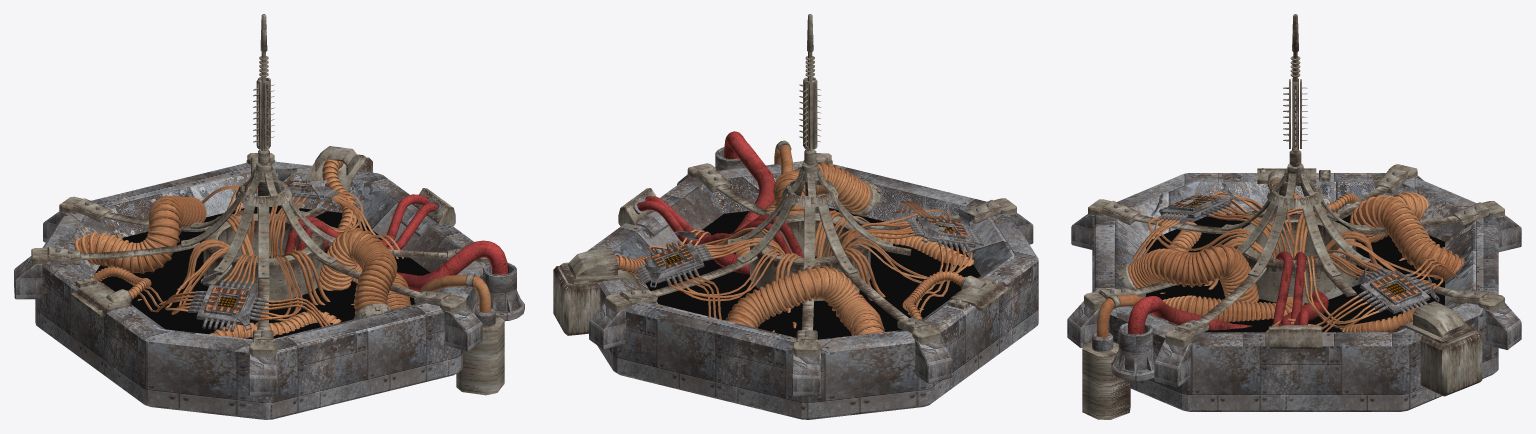
File: static.fbx
The picture shows the model from 3 angles, left to right: view 1: azimuth 30°, elevation 25°; view 2: azimuth 150°, elevation 25°; view 3: azimuth 270°, elevation 25°; orthographic projection.
Visible parts, largest first — view 1: Sweep_37, Sweep_1_34, Disc, Tube_2, Sweep_8, Extrude_3, Sweep_3, Sweep_7, Cube_41, Sweep_34, Cube_38, Cube_36 (+22 smaller); view 2: Sweep_37, Disc, Sweep_1_34, Sweep_8, Tube_2, Cube_2_2, Sweep_7, Sweep_3, Sweep_1_31, Cube_28, Sweep_36, Cube_24 (+23 smaller); view 3: Sweep_37, Sweep_1_34, Disc, Tube_2, Sweep_8, Cube_2_2, Extrude_3, Sweep_7, Sweep_3, Cube_43, Cube_22, Sweep_1_33 (+31 smaller).
Boxes of the visible parts, x1,y1,x2,y2 form: Sweep_37: [35, 161, 485, 419]; Sweep_1_34: [63, 170, 459, 340]; Disc: [95, 205, 430, 339]; Tube_2: [203, 213, 324, 300]; Sweep_8: [78, 198, 401, 308]; Extrude_3: [456, 312, 504, 395]; Sweep_3: [284, 194, 437, 253]; Sweep_7: [324, 240, 507, 291]; Cube_41: [196, 285, 258, 325]; Sweep_34: [258, 254, 330, 326]; Cube_38: [444, 304, 482, 351]; Cube_36: [248, 350, 277, 396]; Sweep_37: [588, 161, 1038, 419]; Disc: [645, 208, 980, 339]; Sweep_1_34: [612, 172, 1014, 341]; Sweep_8: [728, 163, 882, 335]; Tube_2: [750, 213, 870, 301]; Cube_2_2: [553, 266, 601, 335]; Sweep_7: [711, 131, 774, 274]; Sweep_3: [637, 196, 803, 257]; Sweep_1_31: [847, 237, 972, 314]; Cube_28: [914, 335, 951, 383]; Sweep_36: [669, 248, 784, 319]; Cube_24: [589, 303, 626, 349]; Sweep_37: [1092, 173, 1498, 411]; Sweep_1_34: [1115, 181, 1475, 333]; Disc: [1146, 214, 1444, 332]; Tube_2: [1234, 215, 1356, 303]; Sweep_8: [1150, 194, 1461, 321]; Cube_2_2: [1420, 330, 1482, 396]; Extrude_3: [1082, 340, 1130, 419]; Sweep_7: [1128, 291, 1328, 334]; Sweep_3: [1273, 251, 1308, 326]; Cube_43: [1360, 270, 1430, 314]; Cube_22: [1154, 339, 1191, 386]; Sweep_1_33: [1266, 256, 1379, 332].
Bounding box in the file's own units: 631 × 518 × 638.
8 materials, 8 textured.
